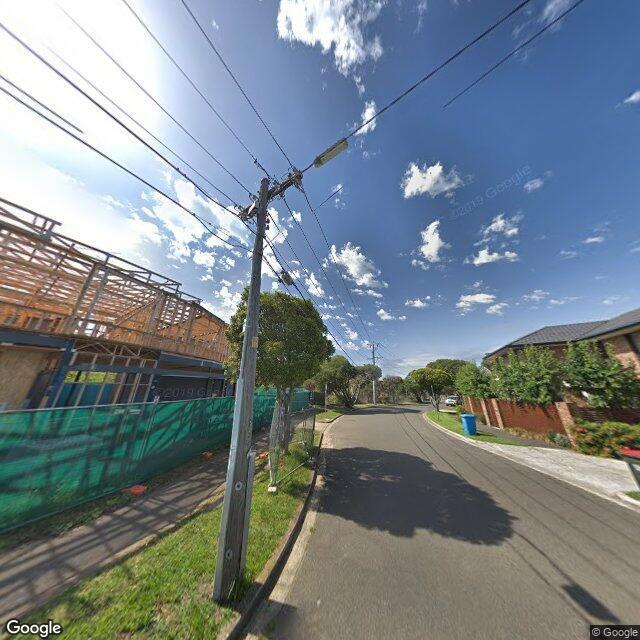crossarm: (238, 171, 303, 220), (366, 356, 383, 360), (366, 342, 381, 346)
streetlight: (301, 138, 349, 172)
timber-pole: (213, 178, 269, 602), (372, 340, 377, 405)
